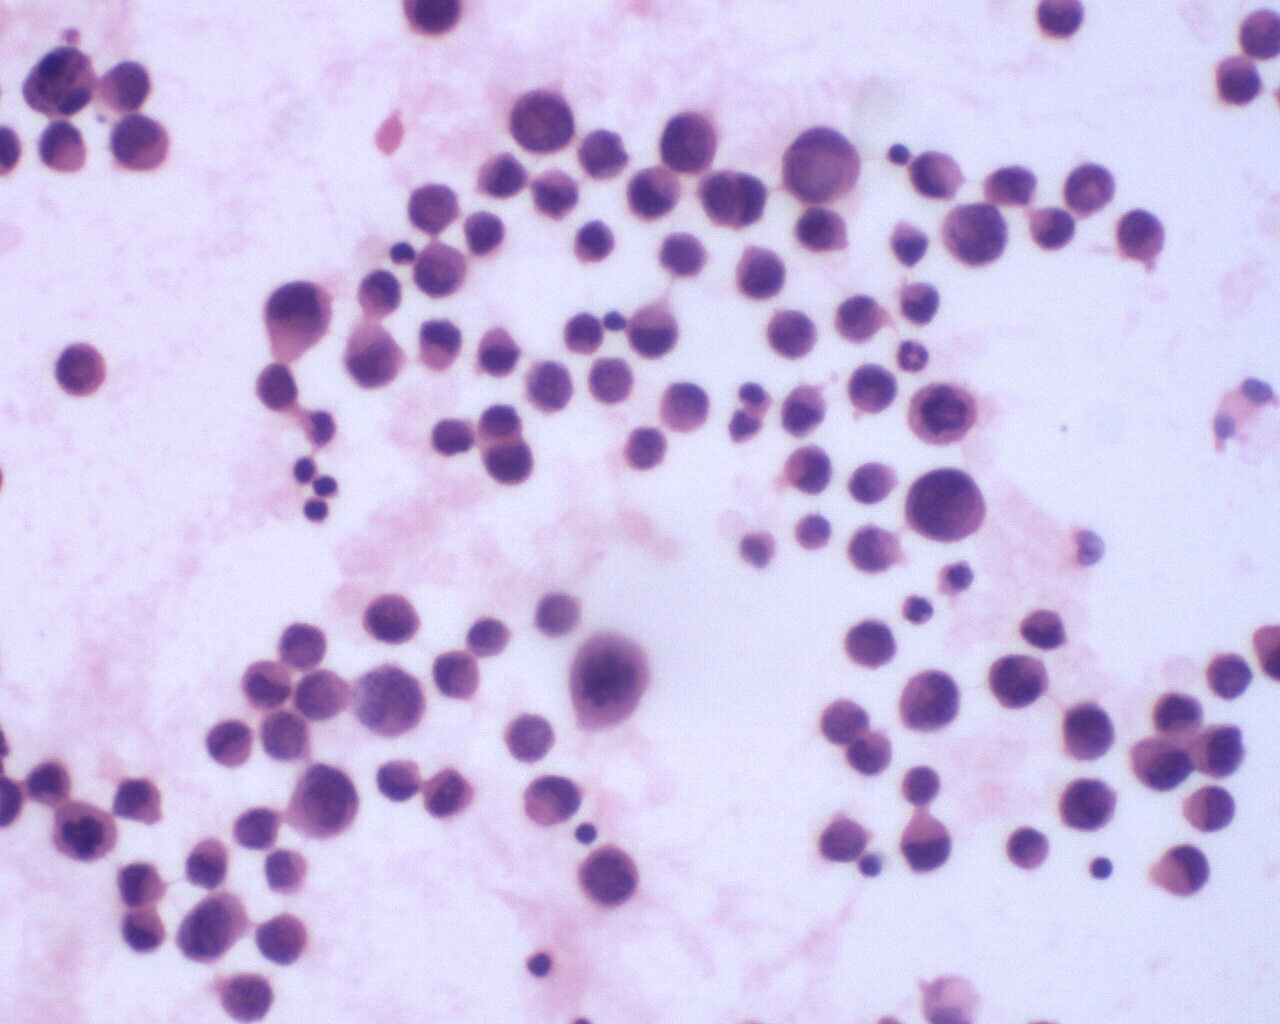ab: (901, 462, 990, 548), (778, 123, 866, 205), (174, 887, 255, 971), (281, 759, 360, 842), (501, 82, 579, 153), (937, 197, 1010, 273), (908, 376, 978, 450), (894, 660, 961, 737), (574, 842, 643, 912), (47, 800, 121, 865), (986, 647, 1054, 716), (655, 109, 723, 176), (109, 111, 174, 176), (1055, 698, 1118, 766), (1055, 772, 1118, 837), (409, 238, 473, 301), (1128, 731, 1196, 790), (53, 338, 114, 402), (293, 665, 354, 726), (731, 240, 788, 307), (1061, 154, 1117, 220), (1189, 716, 1249, 778), (360, 590, 425, 647), (255, 905, 311, 970), (623, 163, 682, 223), (526, 164, 583, 225), (1116, 207, 1170, 271), (1210, 48, 1265, 107), (844, 360, 901, 417), (1203, 648, 1257, 704), (522, 354, 575, 413), (478, 439, 539, 487), (474, 149, 530, 203), (229, 802, 284, 853), (206, 715, 254, 771), (571, 217, 621, 265)
lymph: (1086, 851, 1120, 882), (303, 497, 331, 525)
neutro: (893, 328, 931, 376), (900, 592, 938, 628)
